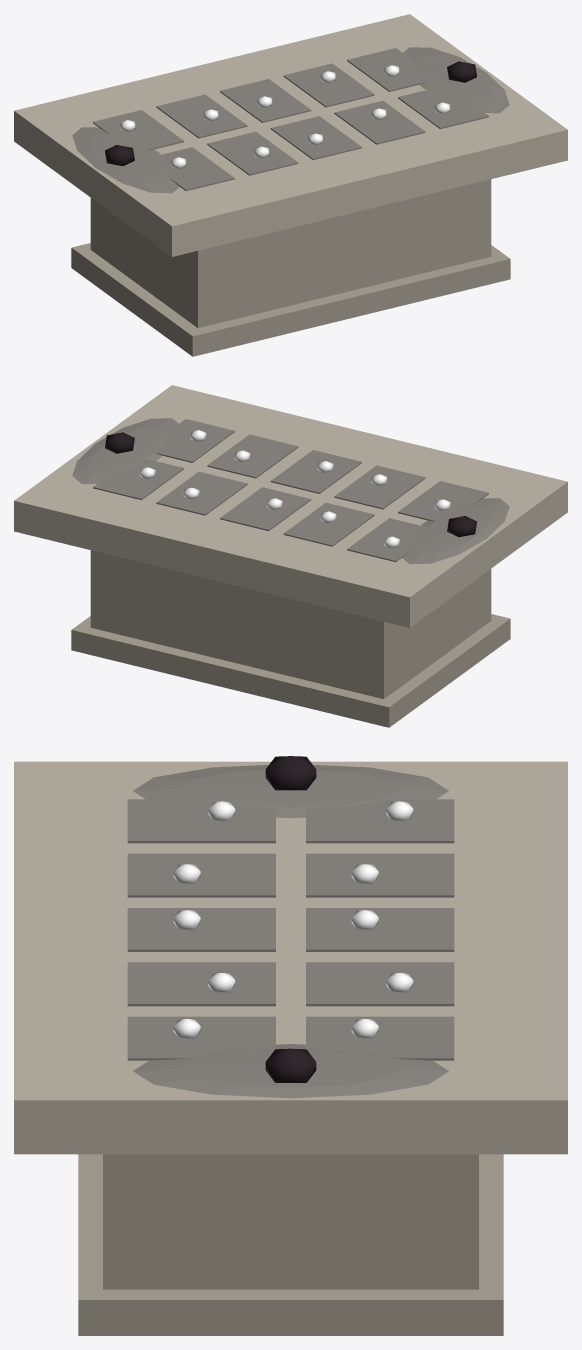
Rendered from o-an-quan.glb.
3 views of the same model, one above another, from view 1: azimuth 30°, elevation 25°; view 2: azimuth 150°, elevation 25°; view 3: azimuth 270°, elevation 25° (orthographic). The views are drawn at different scales.
Visible parts, largest first — view 1: o-an-quan-2, o-an-quan-1, o-an-quan-3, o-an-quan-0, o-an-quan-4, o-an-quan-5, o-an-quan-6, o-an-quan-7; view 2: o-an-quan-2, o-an-quan-1, o-an-quan-3, o-an-quan-0, o-an-quan-4, o-an-quan-5, o-an-quan-6, o-an-quan-7; view 3: o-an-quan-2, o-an-quan-3, o-an-quan-1, o-an-quan-0, o-an-quan-4, o-an-quan-5, o-an-quan-6, o-an-quan-7.
Boxes of the visible parts, x1,y1,x2,y2 form: o-an-quan-2: (14,14,567,256); o-an-quan-1: (90,179,491,327); o-an-quan-3: (93,48,488,191); o-an-quan-0: (71,243,510,356); o-an-quan-4: (72,47,509,193); o-an-quan-5: (120,65,450,168); o-an-quan-6: (105,145,134,166); o-an-quan-7: (447,61,476,82); o-an-quan-2: (14,385,567,627); o-an-quan-1: (90,550,491,698); o-an-quan-3: (93,419,488,562); o-an-quan-0: (71,614,510,727); o-an-quan-4: (72,418,509,564); o-an-quan-5: (139,430,450,548); o-an-quan-6: (447,516,476,537); o-an-quan-7: (105,432,134,453); o-an-quan-2: (14,761,567,1154); o-an-quan-3: (127,799,454,1060); o-an-quan-1: (103,1154,478,1289); o-an-quan-0: (78,1154,503,1335); o-an-quan-4: (133,765,448,1098); o-an-quan-5: (173,801,413,1038); o-an-quan-6: (265,756,316,790); o-an-quan-7: (265,1048,316,1082).
Size of the model in its own units: 1.62 by 0.664 by 1.12.
